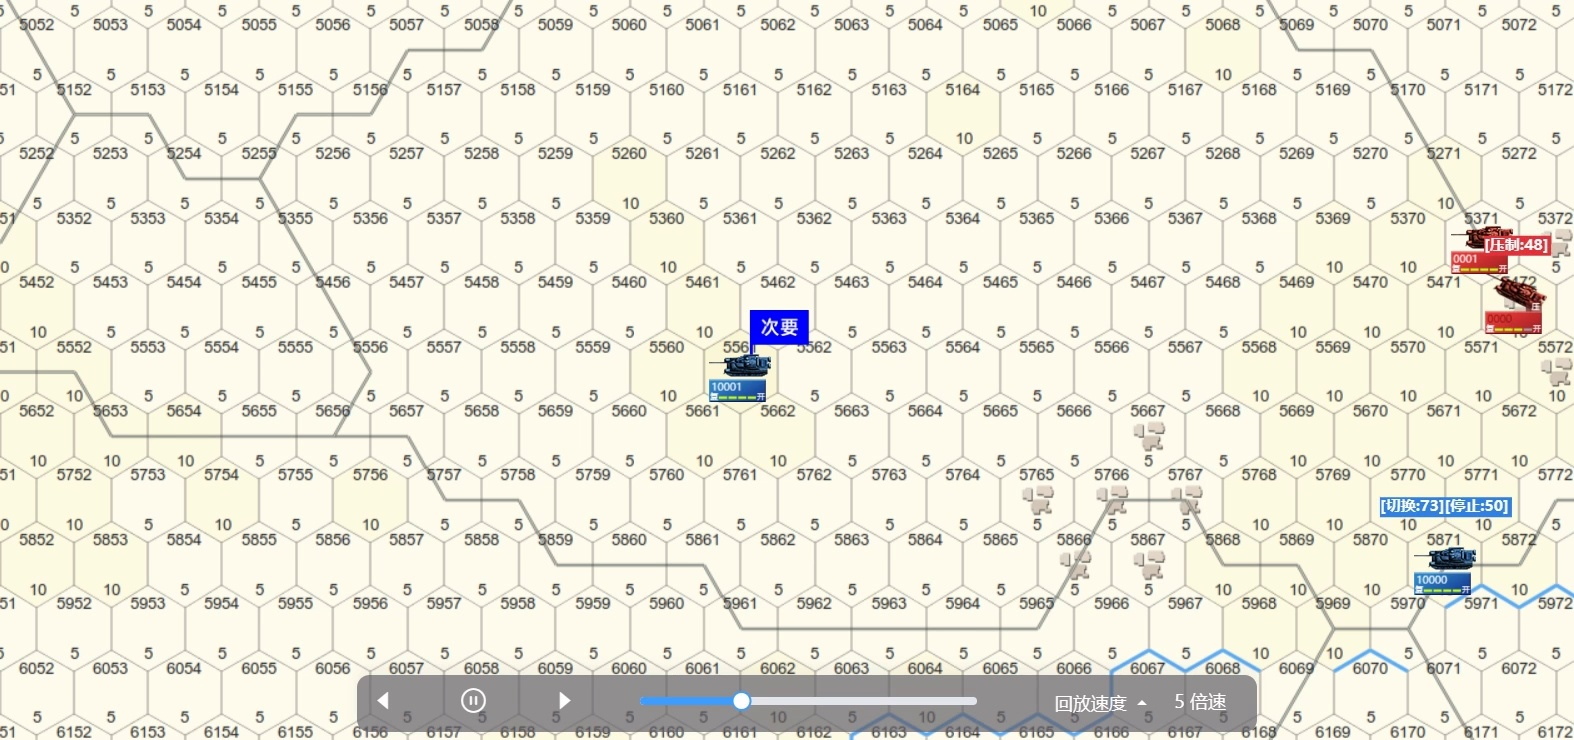blue_tank: (713, 353, 777, 410), (1416, 552, 1478, 597)
red_tank: (1457, 224, 1525, 279), (1485, 285, 1545, 339)
